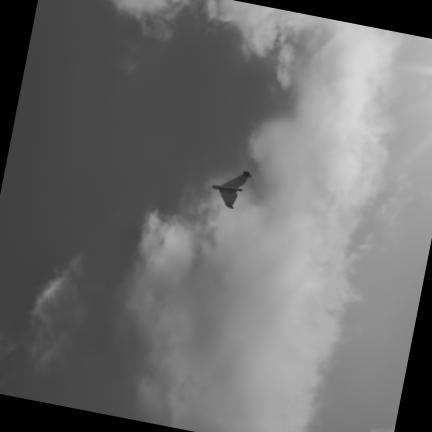Shahed: (213, 170, 251, 207)
